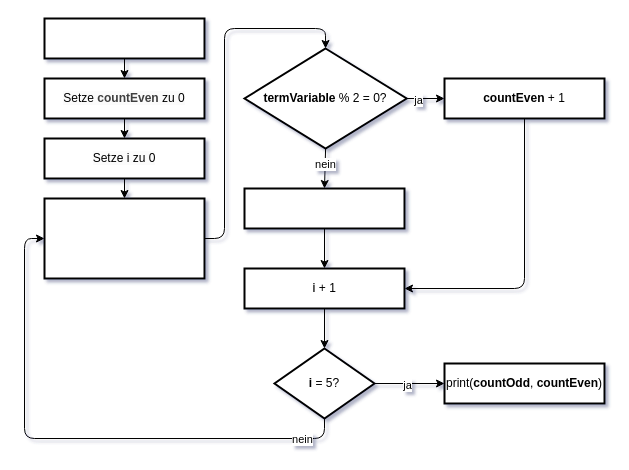
This 629x470 diagram has some shape labels left out. The centre of each missing label's shape, as x and y in pixels:
"countOdd + 1" belongs at (x=324, y=208).
"Setze countOdd zu 0" belongs at (x=124, y=38).
"Weise termVariable den Wert einer Terminaleingabe zu" belongs at (x=124, y=238).
